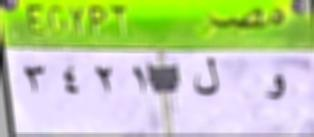1: (126, 65, 150, 100)
2: (88, 60, 121, 101)
3: (18, 60, 50, 98)
4: (57, 64, 83, 101)
laam: (192, 55, 225, 104)
waw: (261, 66, 292, 106)
